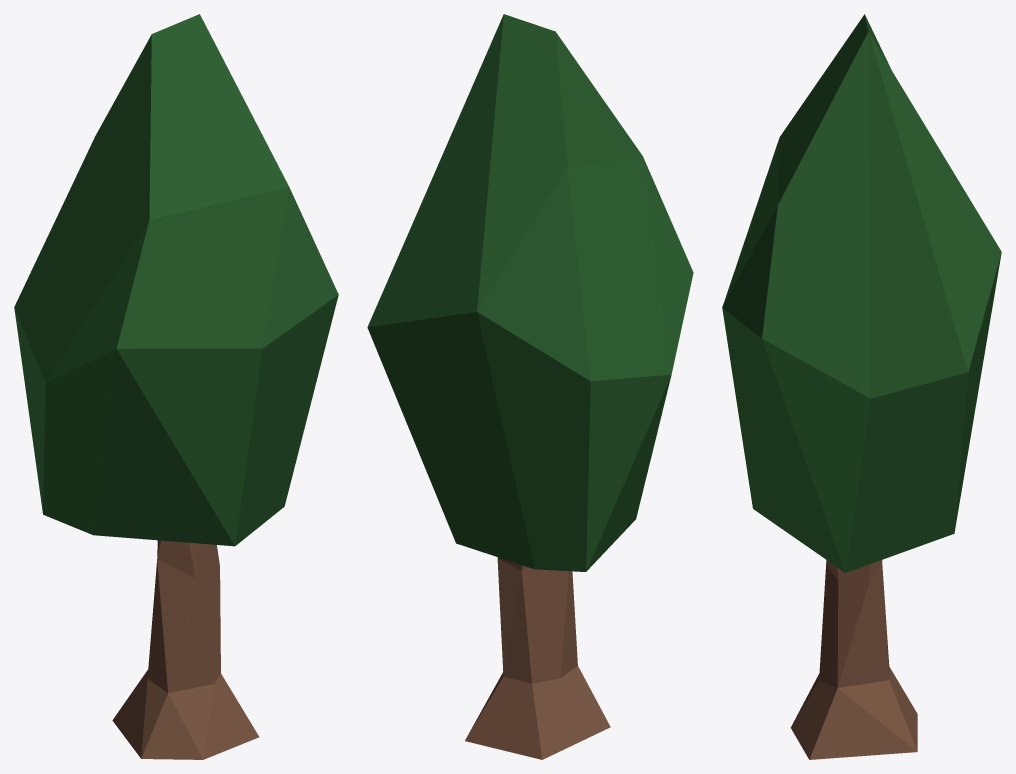
Rendered from pohon2Base.fbx.
The picture shows the model from 3 angles, left to right: view 1: azimuth 30°, elevation 25°; view 2: azimuth 150°, elevation 25°; view 3: azimuth 270°, elevation 25°; orthographic projection.
Visible parts, largest first — view 1: pohon2; view 2: pohon2; view 3: pohon2.
Part boxes in pixels (x1=…): pohon2: x1=14, y1=14, x2=338, y2=759; pohon2: x1=367, y1=14, x2=693, y2=759; pohon2: x1=722, y1=14, x2=1001, y2=759.
Size of the model in its own units: 211 by 579 by 206.
1 material, 1 textured.
